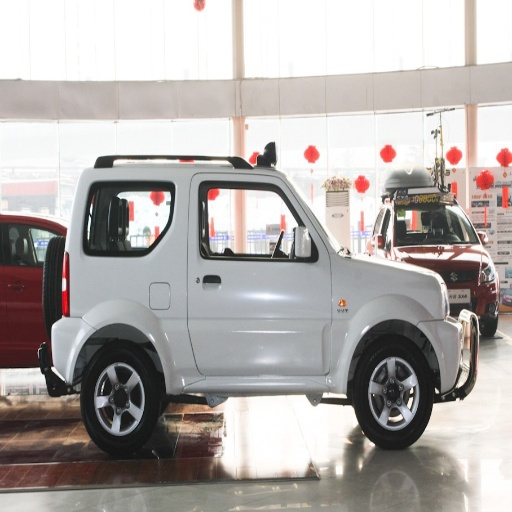back_right_door: (188, 178, 260, 371)
front_left_light: (89, 195, 163, 250)
trunk: (157, 314, 197, 386), (433, 317, 468, 391)
